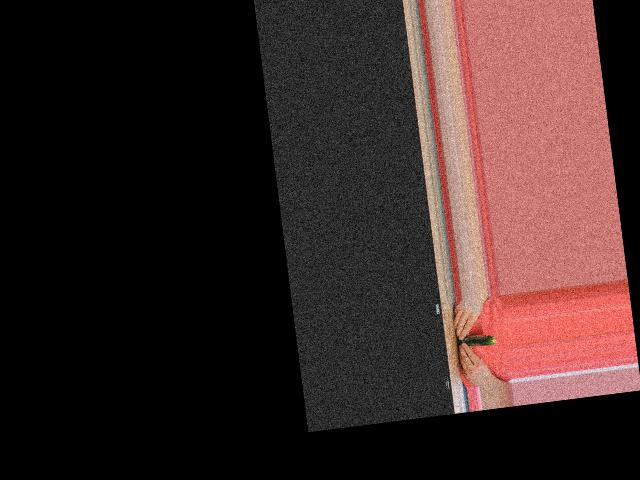cucumber: (456, 332, 496, 350)
